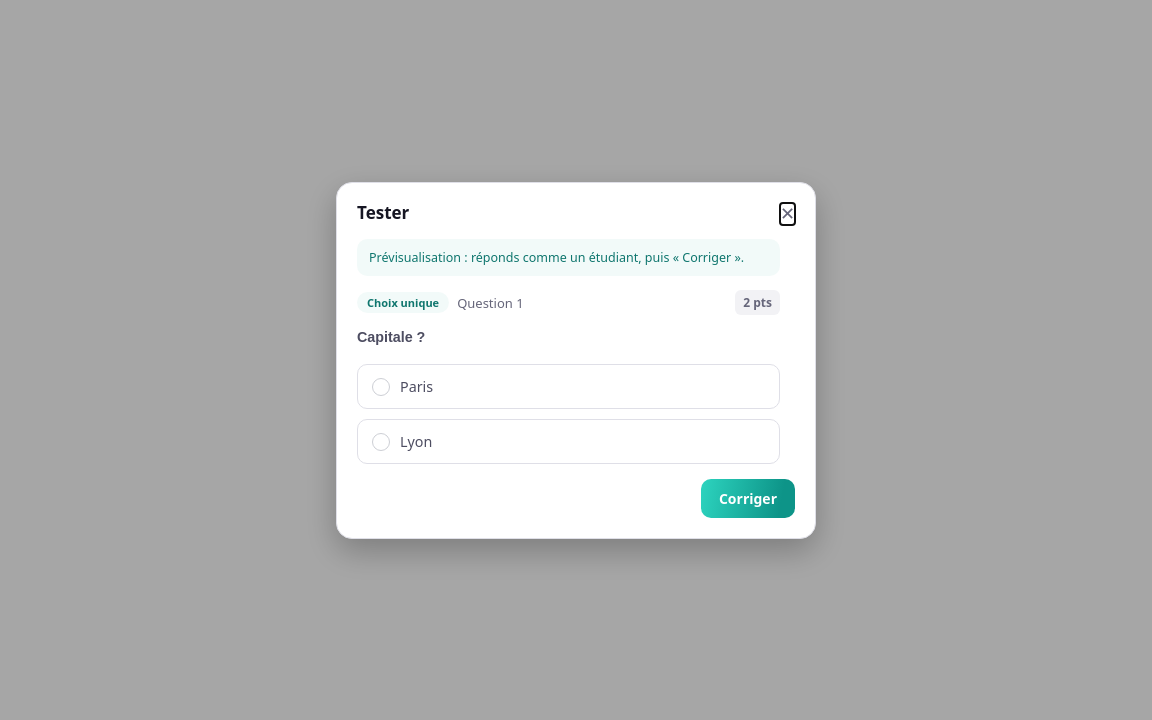
Scenario: QuestionTestBody — correction locale (types à réponses) › bonne réponse → score plein, puis « Réessayer » remet à zéro
The width and height of the screenshot is (1152, 720).
Click the button "Paris": (417, 387) [357,364,780,409]
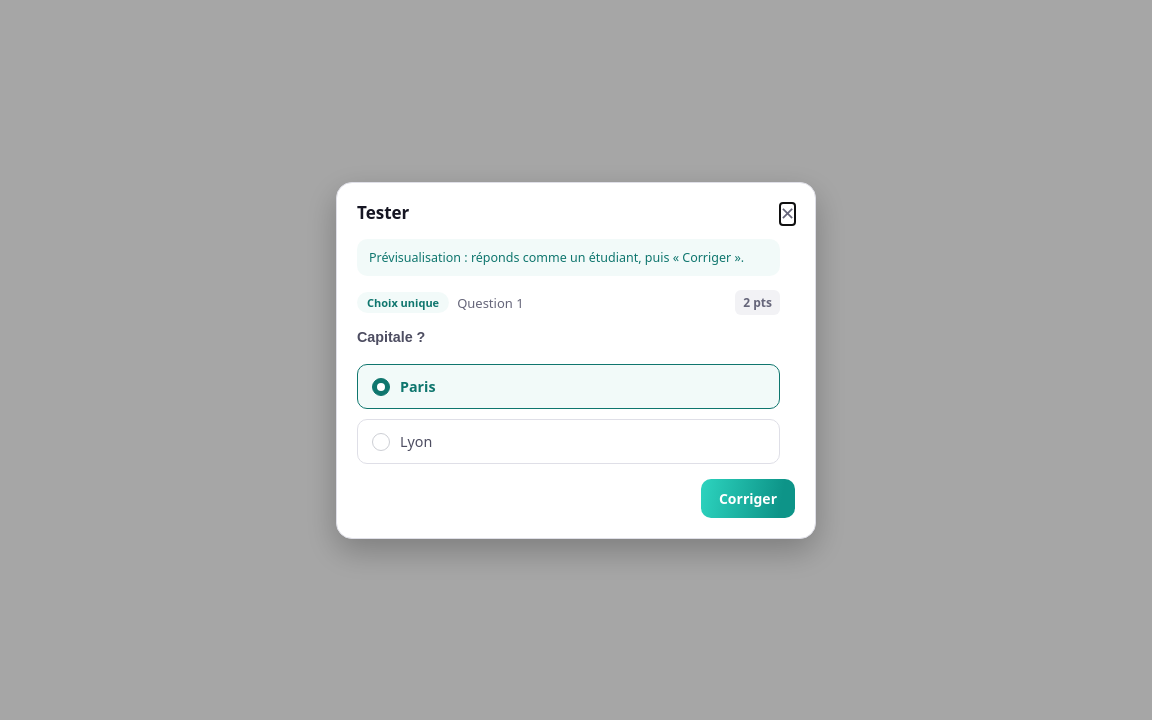
Click the button "Corriger": (748, 498) [701,478,795,518]
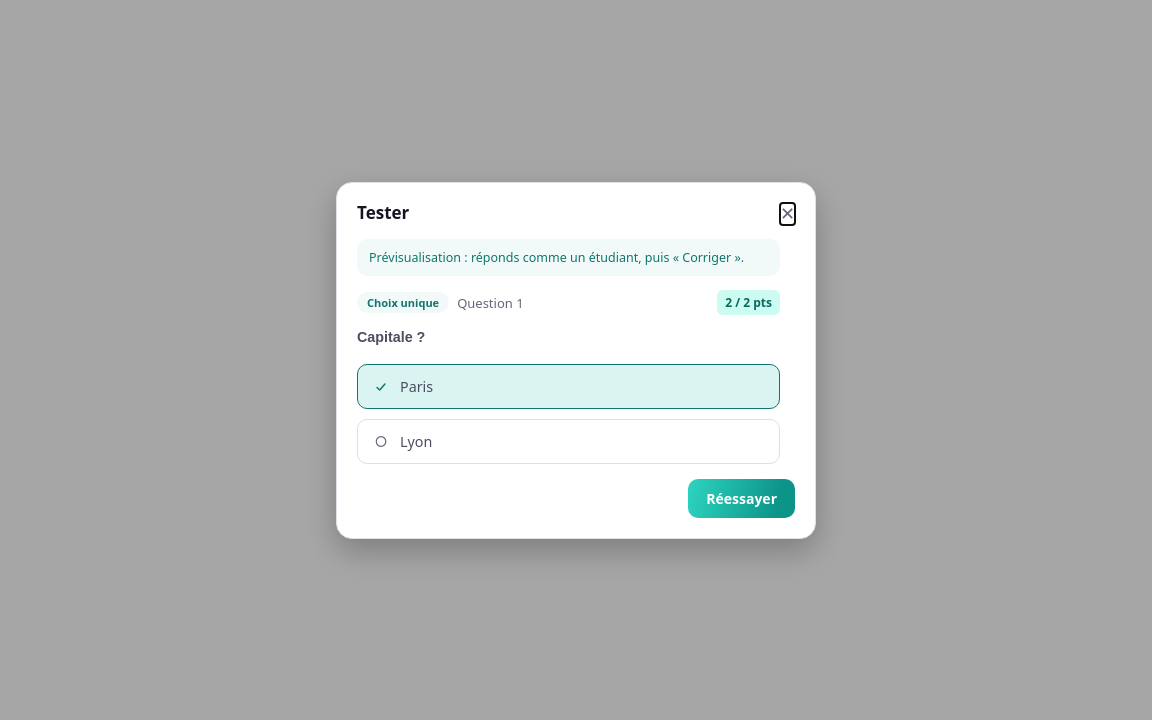
Now the text "2 / 2 pts" is shown, box [717,290,780,315]
Click the button "Réessayer": (742, 498) [688,478,795,518]
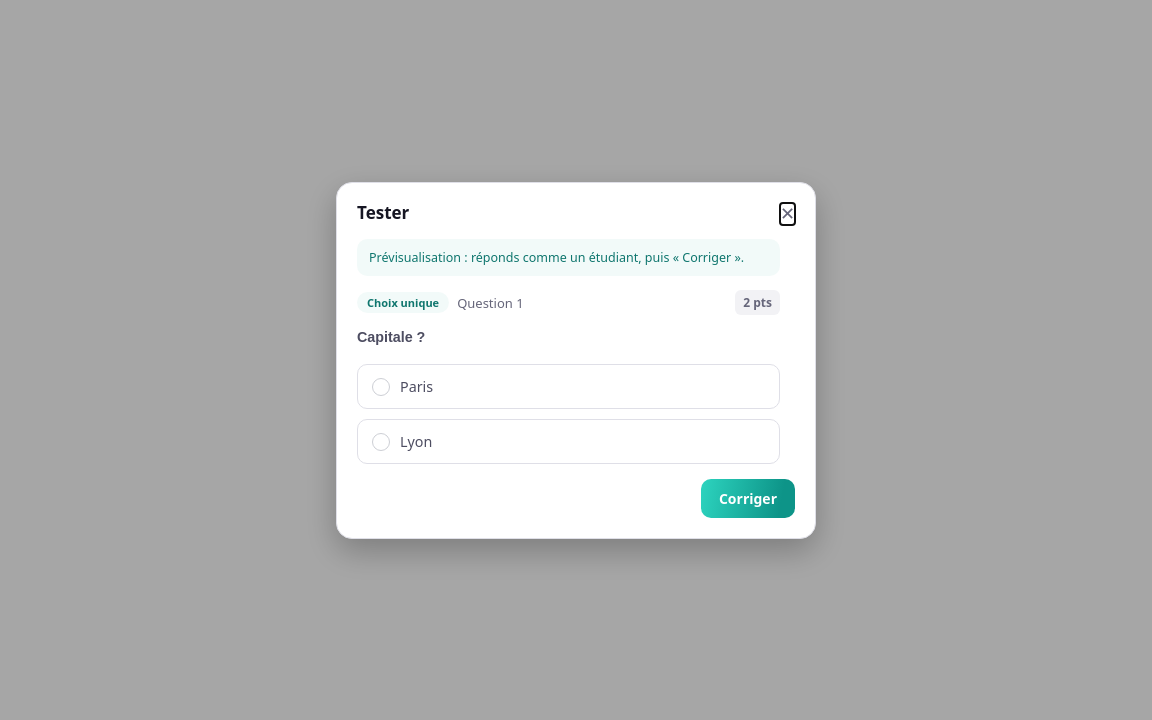
Expected: the text "2 pts" is shown, [735,290,780,315]
Now the button "Corriger" is shown, box [701,478,795,518]
